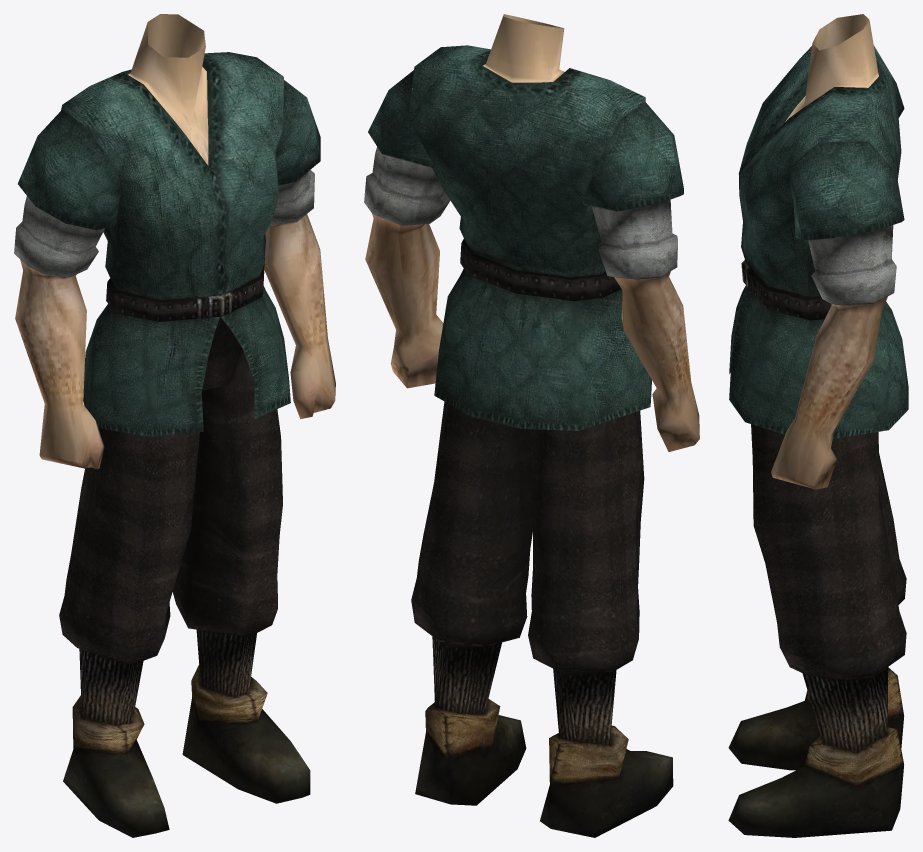
Rendered from KM_SAILOR_02.glb.
3 views of the same model, side by side, from view 1: azimuth 30°, elevation 25°; view 2: azimuth 150°, elevation 25°; view 3: azimuth 270°, elevation 25° (orthographic). The views are drawn at different scales.
Parts seen in each view (by area): view 1: KM_SAILOR_02; view 2: KM_SAILOR_02; view 3: KM_SAILOR_02.
Part boxes in pixels (bbox=[...]): KM_SAILOR_02: bbox=[14, 14, 335, 837]; KM_SAILOR_02: bbox=[364, 14, 699, 837]; KM_SAILOR_02: bbox=[728, 14, 908, 837].
Bounding box in the file's own units: 0.6877 × 1.68 × 0.3553.
Materials: 2 (2 with a texture image).
